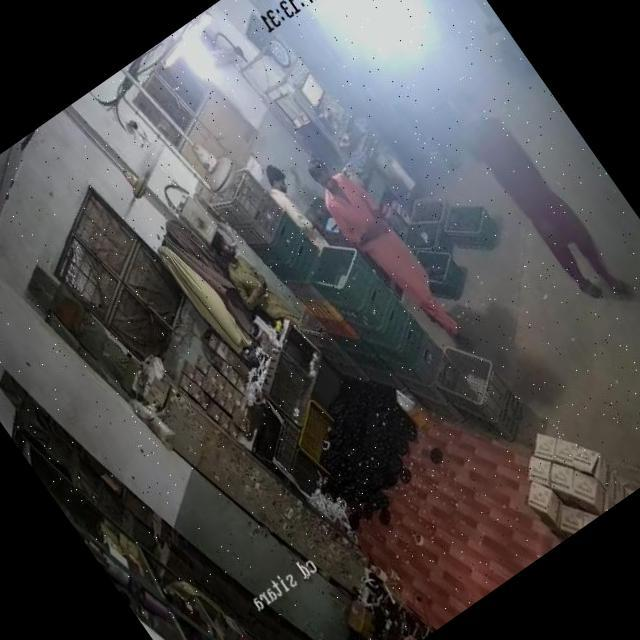person: (441, 77, 627, 317), (303, 143, 467, 353), (205, 225, 312, 362), (254, 161, 332, 259)
